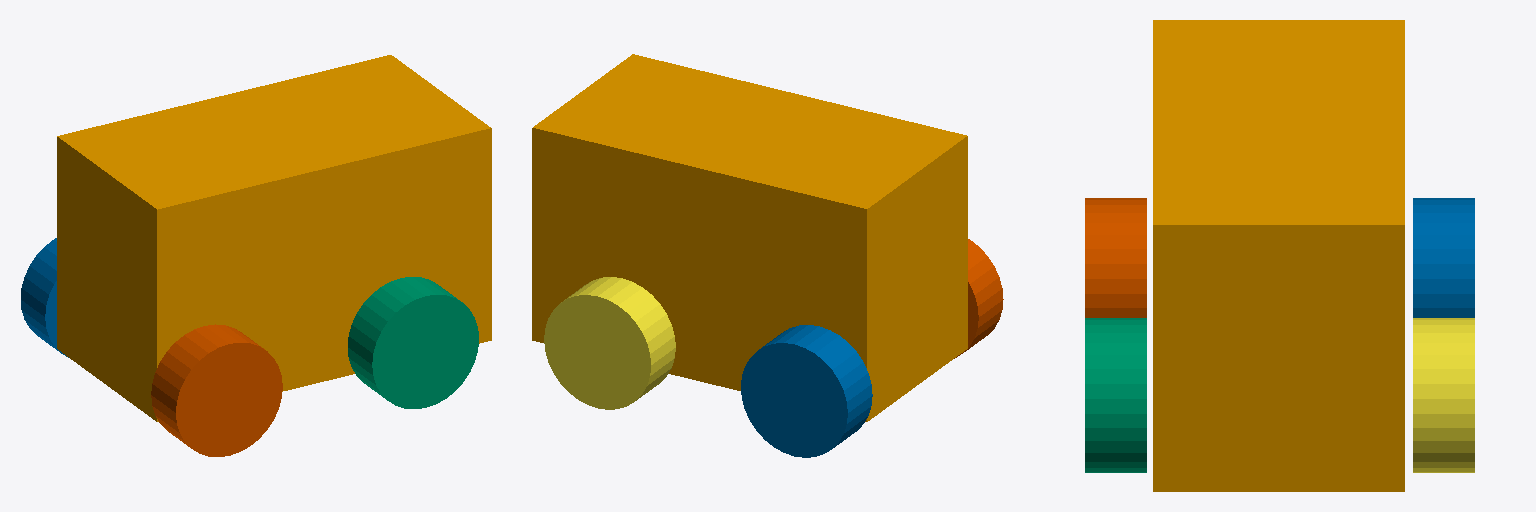
robot.urdf — [local-path]/Path-Planning-Swarm-Robot-Simulation-in-Webots/urdf:
<?xml version="1.0"?>
<robot name="[local-path]/Path-Planning-Swarm-Robot-Simulation-in-Webots/urdf/Robot1.urdf" xmlns:xacro="http://ros.org/wiki/xacro">
  <link name="base_link">
    <visual>
      <geometry>
        <box size="0.125 0.065 0.076"/>
      </geometry>
    </visual>
    <collision>
      <geometry>
        <box size="0.125 0.065 0.076"/>
      </geometry>
    </collision>
  </link>
  <link name="solid">
  </link>
  <joint name="base_link_solid_joint" type="fixed">
    <parent link="base_link"/>
    <child link="solid"/>
    <origin xyz="-0.0035 0.000126 -0.00627" rpy="0 0 0"/>
  </joint>
  <joint name="motor_kanan_depan" type="continuous">
    <parent link="base_link"/>
    <child link="solid(1)"/>
    <axis xyz="0 0.000006 -1"/>
    <limit effort="10" velocity="10"/>
    <origin xyz="0.02774 -0.0421 -0.02683" rpy="1.57079 0 0"/>
  </joint>
  <link name="solid(1)">
    <visual>
      <origin xyz="0 0 0" rpy="0 0 0"/>
      <geometry>
        <cylinder radius="0.02" length="0.016"/>
      </geometry>
    </visual>
    <collision>
      <origin xyz="0 0 0" rpy="0 0 0"/>
      <geometry>
        <cylinder radius="0.02" length="0.016"/>
      </geometry>
    </collision>
  </link>
  <joint name="motor_kiri_depan" type="continuous">
    <parent link="base_link"/>
    <child link="solid(2)"/>
    <axis xyz="0 0.000001 1"/>
    <limit effort="10" velocity="10"/>
    <origin xyz="0.02774 0.04255 -0.02683" rpy="-1.570795 0 0"/>
  </joint>
  <link name="solid(2)">
    <visual>
      <origin xyz="0 0 0" rpy="0 0 0"/>
      <geometry>
        <cylinder radius="0.02" length="0.016"/>
      </geometry>
    </visual>
    <collision>
      <origin xyz="0 0 0" rpy="0 0 0"/>
      <geometry>
        <cylinder radius="0.02" length="0.016"/>
      </geometry>
    </collision>
  </link>
  <joint name="motor_kiri_belakang" type="continuous">
    <parent link="base_link"/>
    <child link="solid(3)"/>
    <axis xyz="0 0.000001 1"/>
    <limit effort="10" velocity="10"/>
    <origin xyz="-0.0457 0.04255 -0.02683" rpy="-1.570795 0 0"/>
  </joint>
  <link name="solid(3)">
    <visual>
      <origin xyz="0 0 0" rpy="0 0 0"/>
      <geometry>
        <cylinder radius="0.02" length="0.016"/>
      </geometry>
    </visual>
    <collision>
      <origin xyz="0 0 0" rpy="0 0 0"/>
      <geometry>
        <cylinder radius="0.02" length="0.016"/>
      </geometry>
    </collision>
  </link>
  <joint name="motor_kanan_belakang" type="continuous">
    <parent link="base_link"/>
    <child link="solid(4)"/>
    <axis xyz="0 -0.000004 -1"/>
    <limit effort="10" velocity="10"/>
    <origin xyz="-0.0457 -0.0421 -0.02683" rpy="1.5708 0 0"/>
  </joint>
  <link name="solid(4)">
    <visual>
      <origin xyz="0 0 0" rpy="0 0 0"/>
      <geometry>
        <cylinder radius="0.02" length="0.016"/>
      </geometry>
    </visual>
    <collision>
      <origin xyz="0 0 0" rpy="0 0 0"/>
      <geometry>
        <cylinder radius="0.02" length="0.016"/>
      </geometry>
    </collision>
  </link>
  <link name="ds_depan">
    <visual>
      <origin xyz="0 0 0" rpy="0 0 0"/>
      <geometry>
        <box size="0.002 0.002 0.002"/>
      </geometry>
    </visual>
    <collision>
      <origin xyz="0 0 0" rpy="0 0 0"/>
      <geometry>
        <box size="0.002 0.002 0.002"/>
      </geometry>
    </collision>
  </link>
  <joint name="base_link_ds_depan_joint" type="fixed">
    <parent link="base_link"/>
    <child link="ds_depan"/>
    <origin xyz="0.039 0 0.03" rpy="0 0 0"/>
  </joint>
  <link name="ds_kanan">
    <visual>
      <geometry>
        <box size="0.002 0.002 0.002"/>
      </geometry>
    </visual>
    <collision>
      <geometry>
        <box size="0.002 0.002 0.002"/>
      </geometry>
    </collision>
  </link>
  <joint name="base_link_ds_kanan_joint" type="fixed">
    <parent link="base_link"/>
    <child link="ds_kanan"/>
    <origin xyz="-0.0089 -0.0275 0.0296" rpy="0 0 -1.570795"/>
  </joint>
  <link name="ds_kiri">
    <visual>
      <geometry>
        <box size="0.002 0.002 0.002"/>
      </geometry>
    </visual>
    <collision>
      <geometry>
        <box size="0.002 0.002 0.002"/>
      </geometry>
    </collision>
  </link>
  <joint name="base_link_ds_kiri_joint" type="fixed">
    <parent link="base_link"/>
    <child link="ds_kiri"/>
    <origin xyz="-0.0089 0.0279 0.0296" rpy="0 0 1.5708"/>
  </joint>
  <link name="ds_belakang">
    <visual>
      <geometry>
        <box size="0.002 0.002 0.002"/>
      </geometry>
    </visual>
    <collision>
      <geometry>
        <box size="0.002 0.002 0.002"/>
      </geometry>
    </collision>
  </link>
  <joint name="base_link_ds_belakang_joint" type="fixed">
    <parent link="base_link"/>
    <child link="ds_belakang"/>
    <origin xyz="-0.0614 0 0.008" rpy="0 0 3.14159"/>
  </joint>
  <link name="global">
  </link>
  <joint name="base_link_global_joint" type="fixed">
    <parent link="base_link"/>
    <child link="global"/>
    <origin xyz="0 0 0" rpy="0 0 0"/>
  </joint>
  <link name="solid_0">
  </link>
  <joint name="global_solid_0_joint" type="fixed">
    <parent link="global"/>
    <child link="solid_0"/>
    <origin xyz="0 0 0.041" rpy="0 0 0"/>
  </joint>
  <link name="imu">
  </link>
  <joint name="base_link_imu_joint" type="fixed">
    <parent link="base_link"/>
    <child link="imu"/>
    <origin xyz="0.021 0 0.043" rpy="0 0 0"/>
  </joint>
  <link name="receiver">
  </link>
  <joint name="base_link_receiver_joint" type="fixed">
    <parent link="base_link"/>
    <child link="receiver"/>
    <origin xyz="0 0 0" rpy="0 0 0"/>
  </joint>
  <link name="emitter">
  </link>
  <joint name="base_link_emitter_joint" type="fixed">
    <parent link="base_link"/>
    <child link="emitter"/>
    <origin xyz="0 0 0" rpy="0 0 0"/>
  </joint>
  <link name="solid(5)">
  </link>
  <joint name="base_link_solid(5)_joint" type="fixed">
    <parent link="base_link"/>
    <child link="solid(5)"/>
    <origin xyz="0.005 0 0.035" rpy="0 0 -1.5708"/>
  </joint>
  <link name="cam">
  </link>
  <joint name="base_link_cam_joint" type="fixed">
    <parent link="base_link"/>
    <child link="cam"/>
    <origin xyz="0.06 0 0.004" rpy="-1.570796 0 -1.570796"/>
  </joint>
</robot>

--- What the picture shows (computed from the rendered views, not written in the file) ---
3 views of the same robot in one strip: view 1: azimuth 30°, elevation 25°; view 2: azimuth 150°, elevation 25°; view 3: azimuth 270°, elevation 25° (orthographic).
Model [local-path]/Path-Planning-Swarm-Robot-Simulation-in-Webots/urdf with 17 links and 16 joints (4 continuous, 12 fixed), rooted at base_link, posed all joints at 0.
Links seen in each view (by area): view 1: base_link, solid(1), solid(4), solid(3); view 2: base_link, solid(3), solid(2), solid(4); view 3: base_link, solid(1), solid(2), solid(3), solid(4).
Link boxes in pixels (bbox=[...]): base_link: bbox=[57, 55, 491, 421]; solid(1): bbox=[348, 277, 478, 408]; solid(4): bbox=[151, 324, 282, 456]; solid(3): bbox=[21, 238, 68, 357]; base_link: bbox=[532, 54, 967, 421]; solid(3): bbox=[741, 325, 872, 457]; solid(2): bbox=[544, 277, 675, 409]; solid(4): bbox=[954, 239, 1003, 358]; base_link: bbox=[1153, 20, 1404, 491]; solid(1): bbox=[1085, 318, 1146, 472]; solid(2): bbox=[1413, 318, 1474, 472]; solid(3): bbox=[1413, 198, 1474, 317]; solid(4): bbox=[1085, 198, 1146, 317].
Bounding box of the posed robot: 0.1282 × 0.1007 × 0.0848 m (x, y, z).
Geometry: primitives only (box / cylinder / sphere), no mesh files.
